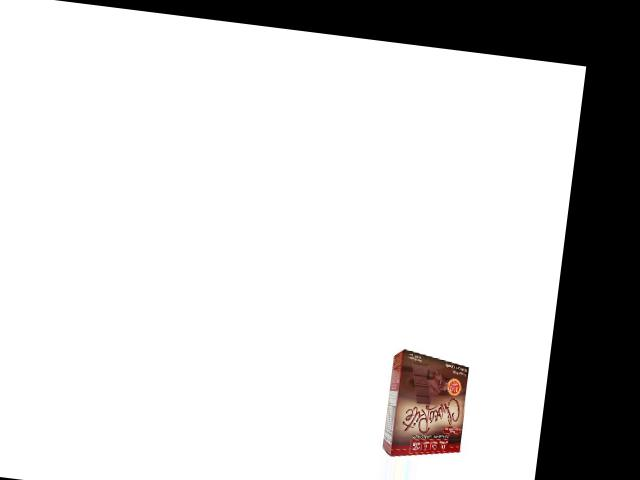chocolate: (382, 348, 473, 462)
